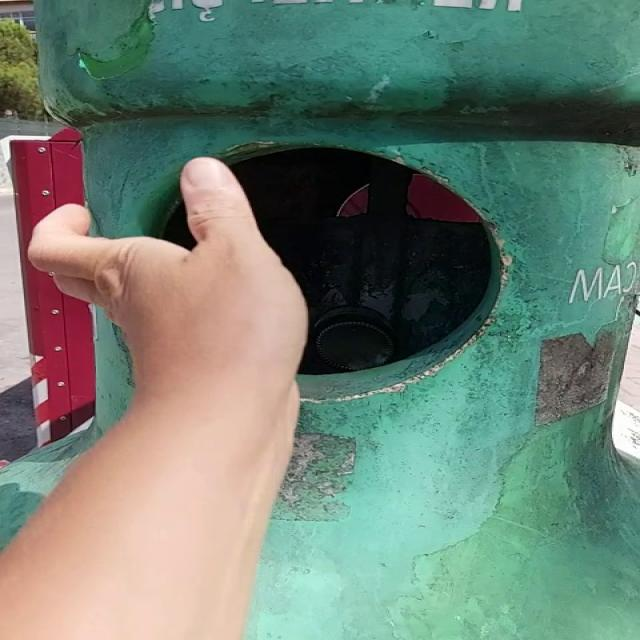glass: (315, 308, 395, 372)
